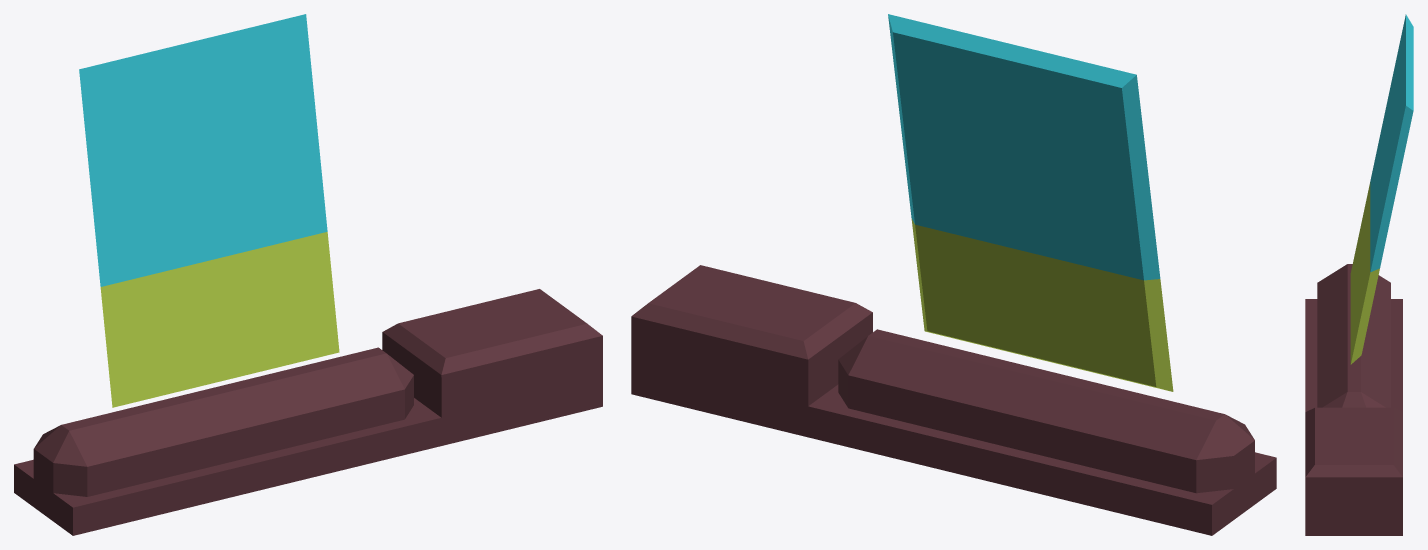
File: scifi-frame-digital-b.fbx
3 renders of one model, left to right at view 1: azimuth 30°, elevation 25°; view 2: azimuth 150°, elevation 25°; view 3: azimuth 270°, elevation 25°, orthographic. The views are drawn at different scales.
Visible parts, largest first — view 1: scifi-frame-digital-b; view 2: scifi-frame-digital-b; view 3: scifi-frame-digital-b.
Part boxes in pixels (x1,y1,x2,y2): scifi-frame-digital-b: (14, 14, 602, 535); scifi-frame-digital-b: (631, 14, 1276, 535); scifi-frame-digital-b: (1305, 14, 1413, 535).
Size of the model in its own units: 0.45 by 0.3292 by 0.0962.
